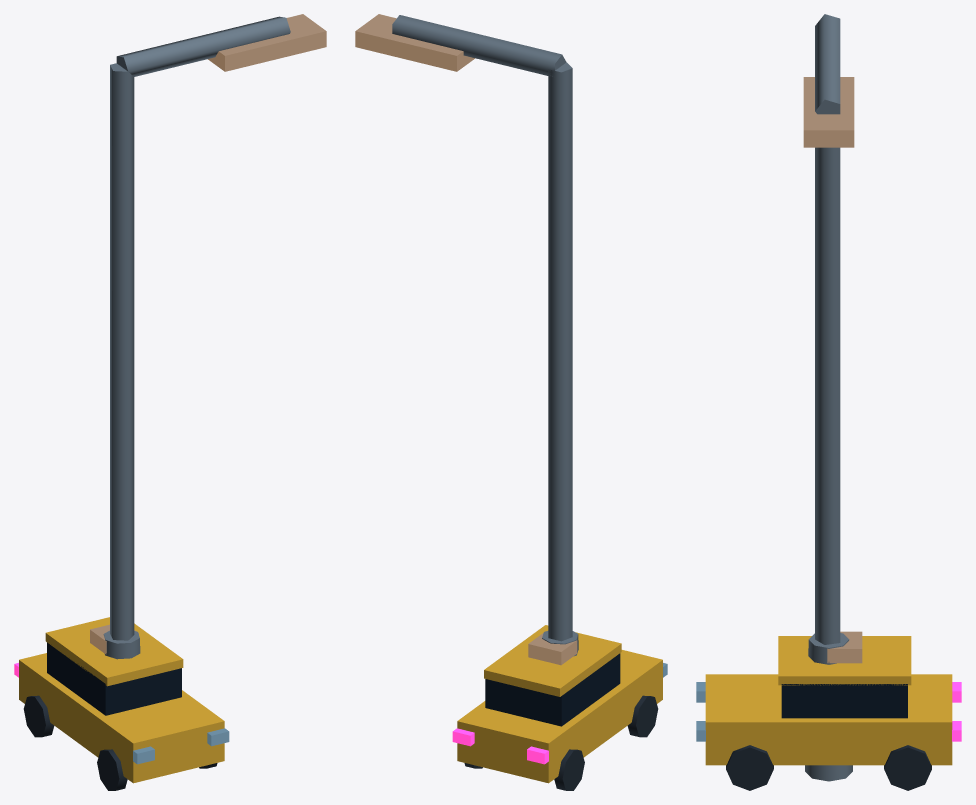
File: street-kit.glb
The picture shows the model from 3 angles, left to right: view 1: azimuth 30°, elevation 25°; view 2: azimuth 150°, elevation 25°; view 3: azimuth 270°, elevation 25°; orthographic projection. The views are drawn at different scales.
Parts seen in each view (by area): view 1: Brushed aluminum (×2), NYC taxi paint, Unlit recessed glazing, Warm occupied interiors, Roof membrane and mechanical equipment, Cool occupied interiors; view 2: Brushed aluminum, NYC taxi paint, Unlit recessed glazing, Warm occupied interiors (×2), Roof membrane and mechanical equipment, Magenta architectural light; view 3: NYC taxi paint, Brushed aluminum (×2), Unlit recessed glazing, Warm occupied interiors (×2), Roof membrane and mechanical equipment.
Boxes of the visible parts, <box> form: Brushed aluminum (×2): <box>103,16,290,659</box>; NYC taxi paint: <box>19,617,224,783</box>; Unlit recessed glazing: <box>47,642,181,715</box>; Warm occupied interiors: <box>208,14,326,71</box>; Roof membrane and mechanical equipment: <box>23,695,217,790</box>; Cool occupied interiors: <box>133,728,229,764</box>; Brushed aluminum: <box>392,15,572,641</box>; NYC taxi paint: <box>457,625,662,783</box>; Unlit recessed glazing: <box>485,653,620,726</box>; Warm occupied interiors (×2): <box>355,14,577,665</box>; Roof membrane and mechanical equipment: <box>464,695,658,790</box>; Magenta architectural light: <box>452,728,548,764</box>; NYC taxi paint: <box>705,636,952,765</box>; Brushed aluminum (×2): <box>805,14,852,781</box>; Unlit recessed glazing: <box>781,684,907,718</box>; Warm occupied interiors (×2): <box>803,77,862,663</box>; Roof membrane and mechanical equipment: <box>726,745,931,790</box>.
Size of the model in its own units: 0.479 by 1.32 by 0.419.
